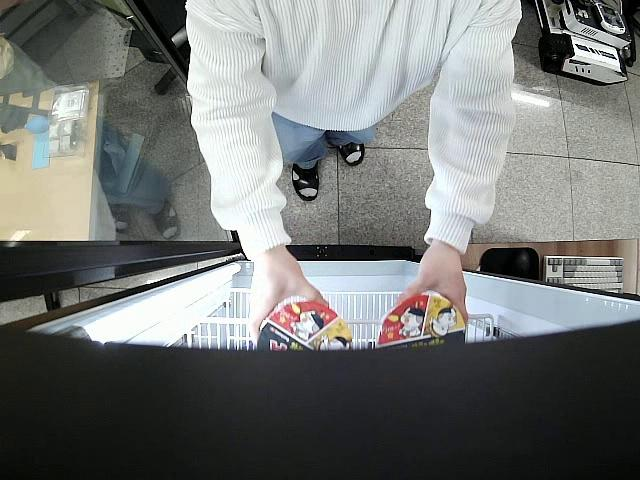00_hand: (247, 257, 332, 348), (397, 243, 470, 329)
07_buldak_L: (255, 299, 351, 351), (375, 293, 467, 347)
